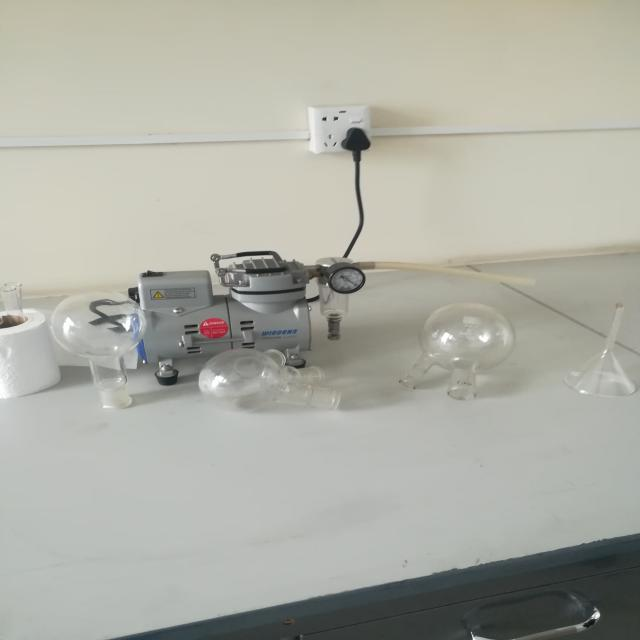Round_Bottom_Flask_Borosilicate_Glass_1_Neck: (15, 286, 165, 428)
Round_Bottom_Flask_Borosilicate_Glass_2_Neck: (377, 278, 531, 417)
Round_Bottom_Flask_Borosilicate_Glass_3_Neck: (175, 331, 366, 429)
